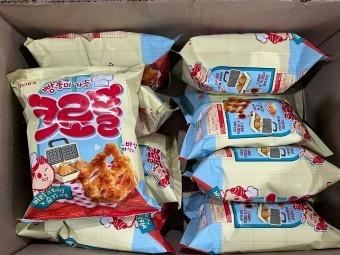snack: (6, 62, 159, 222)
